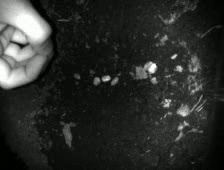corn: (146, 62, 158, 77), (142, 59, 154, 74), (91, 75, 102, 87), (100, 73, 112, 84), (109, 75, 120, 87), (71, 72, 82, 81)
